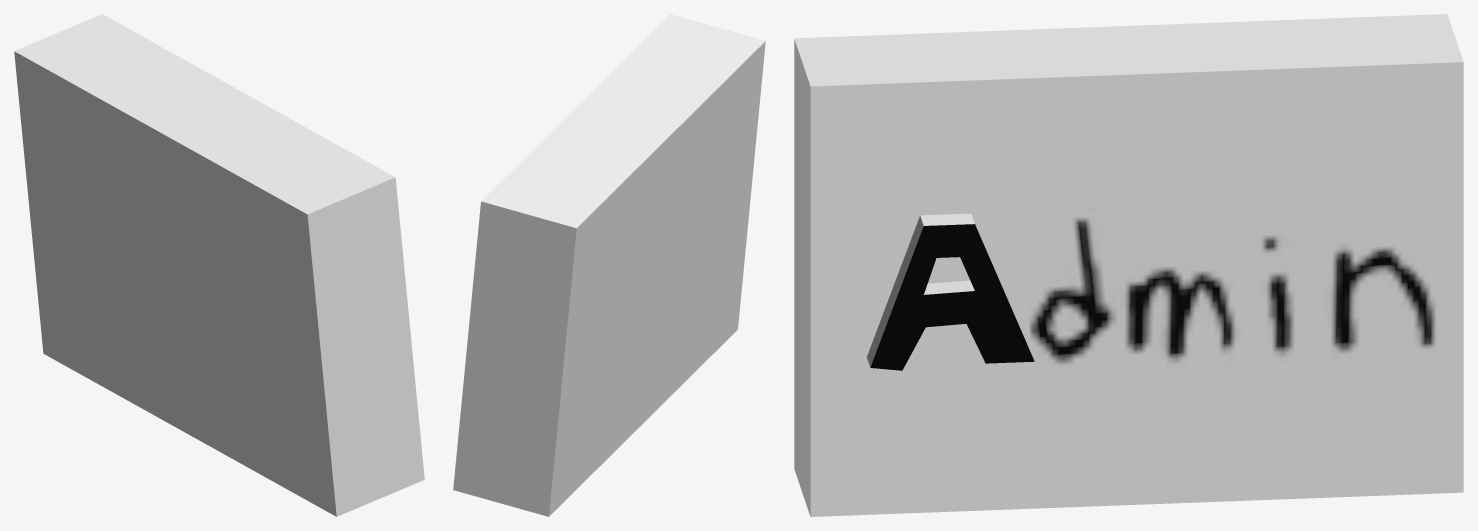
Rendered from ADMINISTRATOR BADGE.fbx.
3 views of the same model, side by side, from view 1: azimuth 30°, elevation 25°; view 2: azimuth 150°, elevation 25°; view 3: azimuth 270°, elevation 25° (orthographic). The views are drawn at different scales.
Visible parts, largest first — view 1: ADMINISTRATOR_BADGE; view 2: ADMINISTRATOR_BADGE; view 3: ADMINISTRATOR_BADGE.
Part boxes in pixels (<box>): ADMINISTRATOR_BADGE: <box>14,14,424,516</box>; ADMINISTRATOR_BADGE: <box>453,14,765,516</box>; ADMINISTRATOR_BADGE: <box>794,14,1463,516</box>.
Size of the model in its own units: 4.33 by 7.58 by 10.67.
